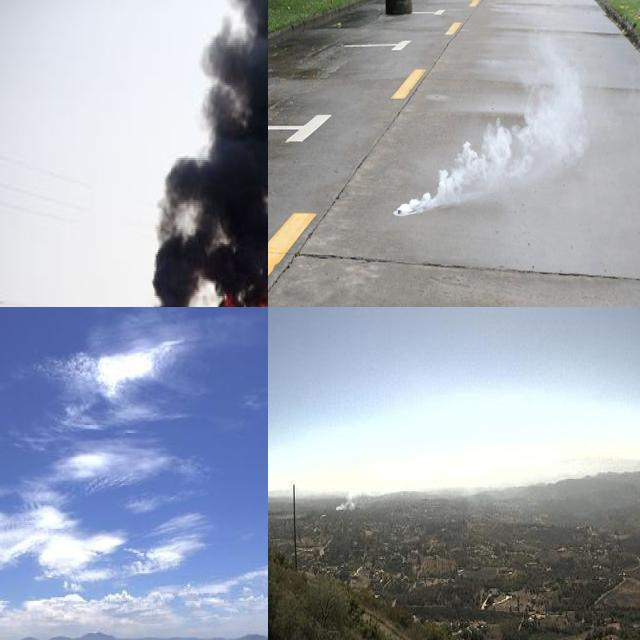smoke: (155, 1, 268, 304), (392, 47, 588, 217), (331, 475, 370, 512)
